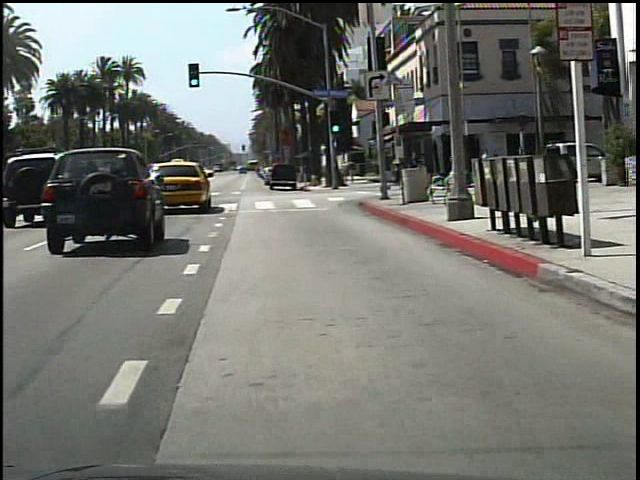person: (478, 147, 497, 191), (383, 150, 400, 194)
